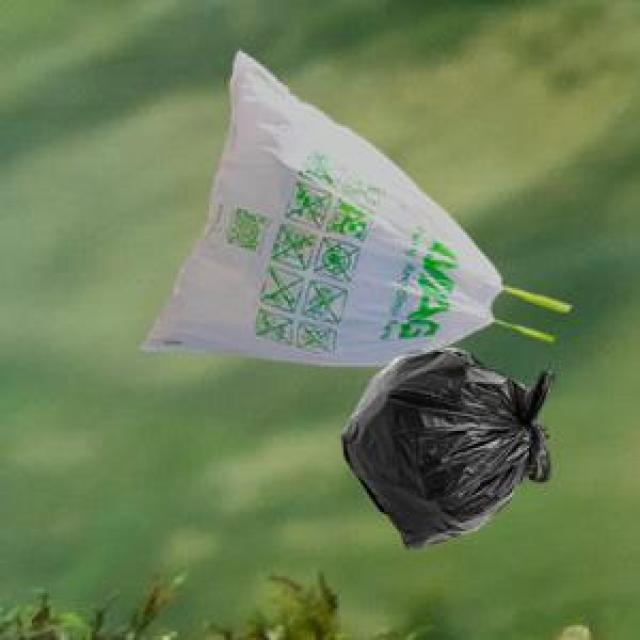miscellaneous trash: (337, 344, 550, 546)
